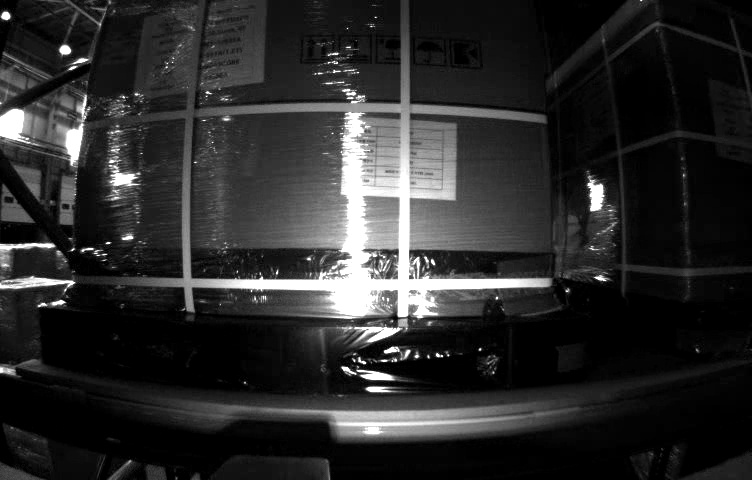True Barcode: (99, 29, 134, 62)
